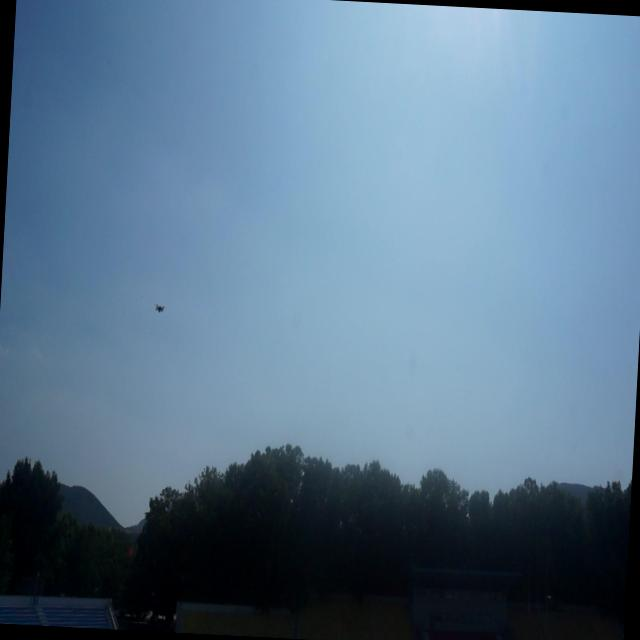drone: (148, 296, 170, 323)
